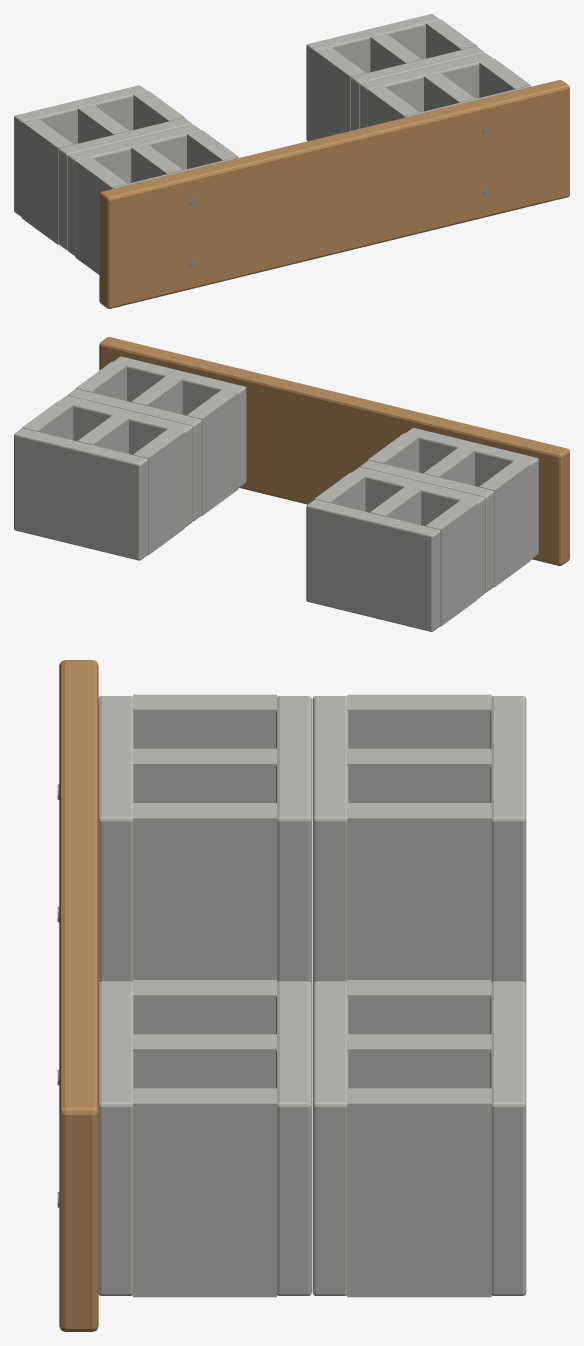
File: cans.obj
The picture shows the model from 3 angles, top to bottom: view 1: azimuth 30°, elevation 25°; view 2: azimuth 150°, elevation 25°; view 3: azimuth 270°, elevation 25°; orthographic projection. The views are drawn at different scales.
Bounding box in the file's own units: 0.95 × 0.22 × 0.4165.
